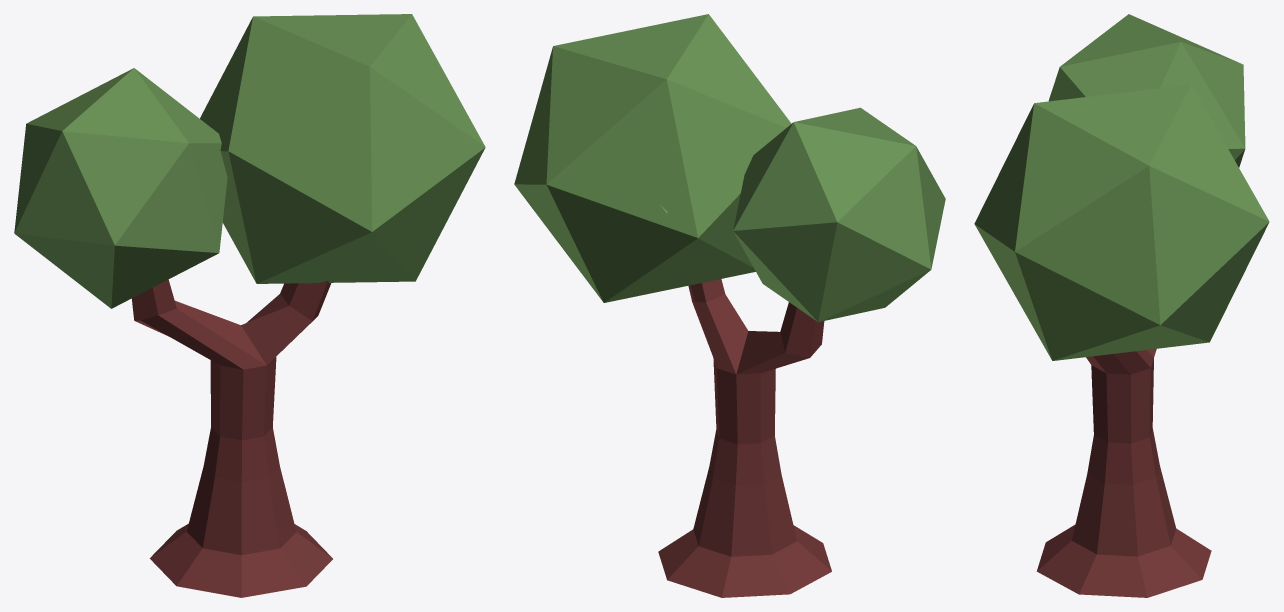
Rendered from Sedang11.fbx.
The picture shows the model from 3 angles, left to right: view 1: azimuth 30°, elevation 25°; view 2: azimuth 150°, elevation 25°; view 3: azimuth 270°, elevation 25°; orthographic projection. The views are drawn at different scales.
Visible parts, largest first — view 1: Icosphere.001; view 2: Icosphere.001; view 3: Icosphere.001.
Part boxes in pixels (x1,y1,x2,y2): Icosphere.001: (14,14,485,597); Icosphere.001: (514,14,945,597); Icosphere.001: (974,14,1269,597).
Size of the model in its own units: 344 by 391 by 210.
